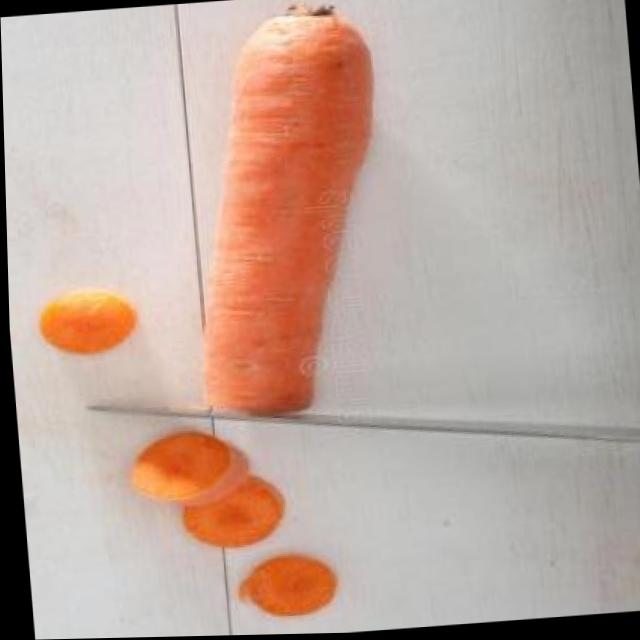Wet: (166, 0, 402, 427)
